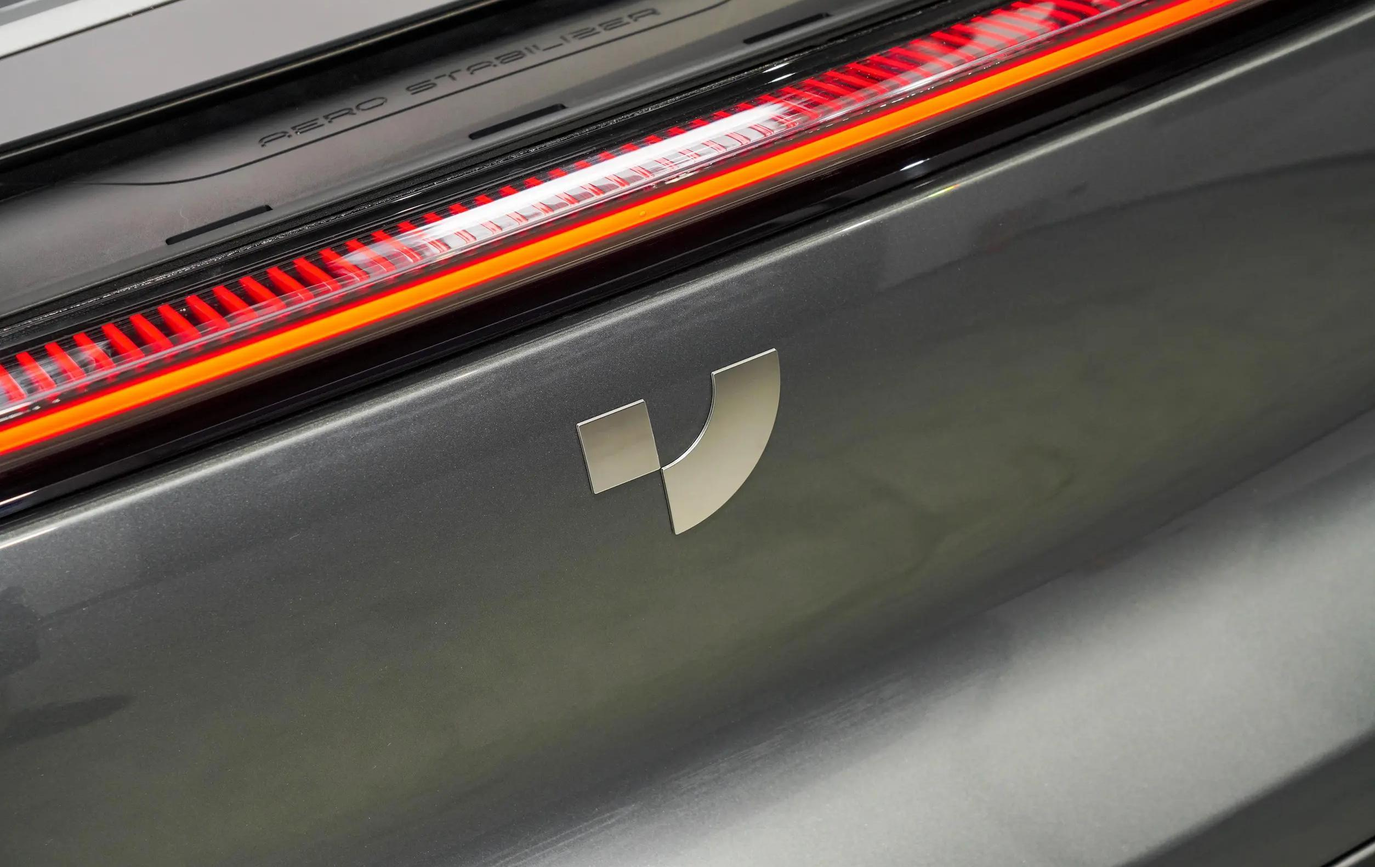JIYUE: (576, 341, 782, 536)
